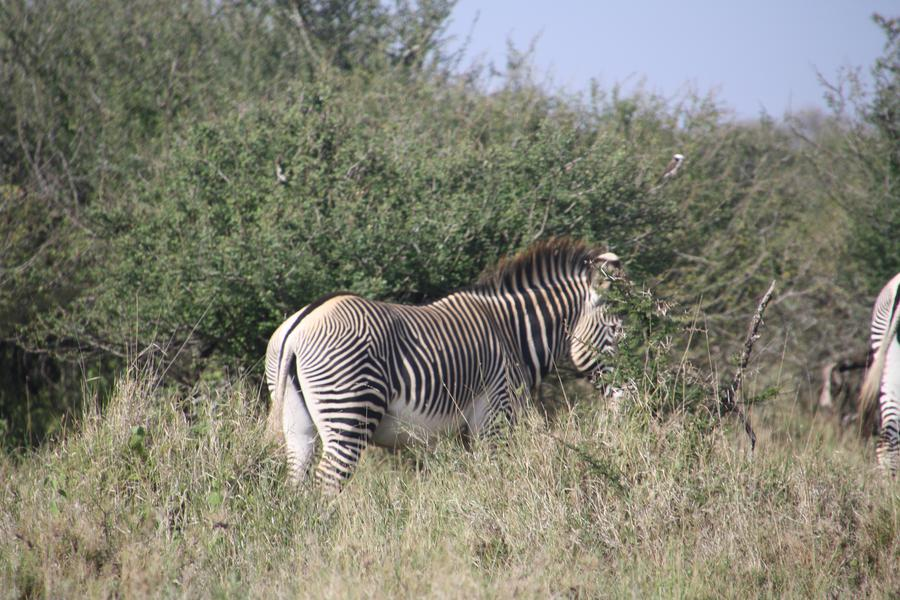zebra_grevys: (274, 274, 544, 421)
